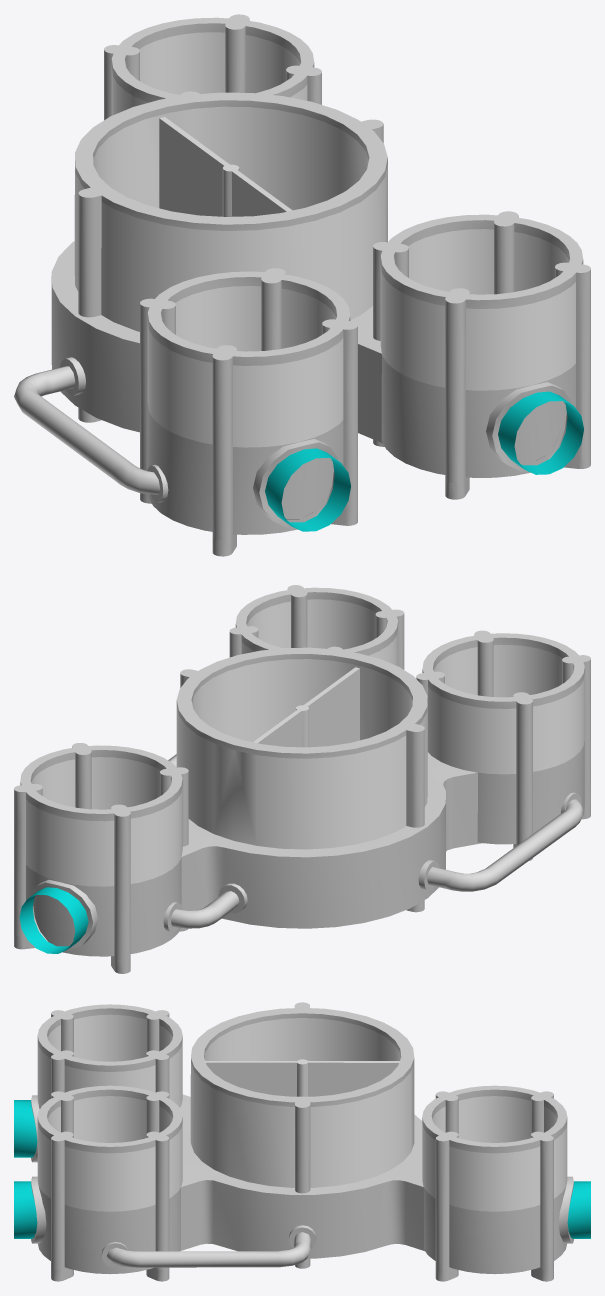
Rendered from MixerDefaultInternalVariant.gltf.
The picture shows the model from 3 angles, top to bottom: view 1: azimuth 30°, elevation 25°; view 2: azimuth 150°, elevation 25°; view 3: azimuth 270°, elevation 25°; orthographic projection. The views are drawn at different scales.
Visible parts, largest first — view 1: MixerFoundation, MixerGlas, MixerRotator; view 2: MixerFoundation, MixerGlas, MixerRotator; view 3: MixerFoundation, MixerGlas, MixerRotator.
Part boxes in pixels (x1=…): MixerFoundation: x1=14, y1=14, x2=590, y2=556; MixerGlas: x1=74, y1=32, x2=575, y2=447; MixerRotator: x1=159, y1=117, x2=292, y2=216; MixerFoundation: x1=14, y1=585, x2=590, y2=973; MixerGlas: x1=26, y1=599, x2=584, y2=886; MixerRotator: x1=253, y1=667, x2=359, y2=747; MixerFoundation: x1=14, y1=1002, x2=590, y2=1281; MixerGlas: x1=37, y1=1014, x2=567, y2=1211; MixerRotator: x1=205, y1=1059, x2=399, y2=1096.
Size of the model in its own units: 1.96 by 1.01 by 3.
